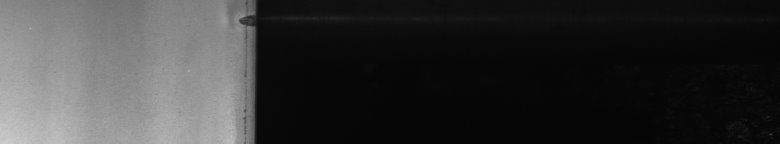hb: (222, 7, 244, 40)
